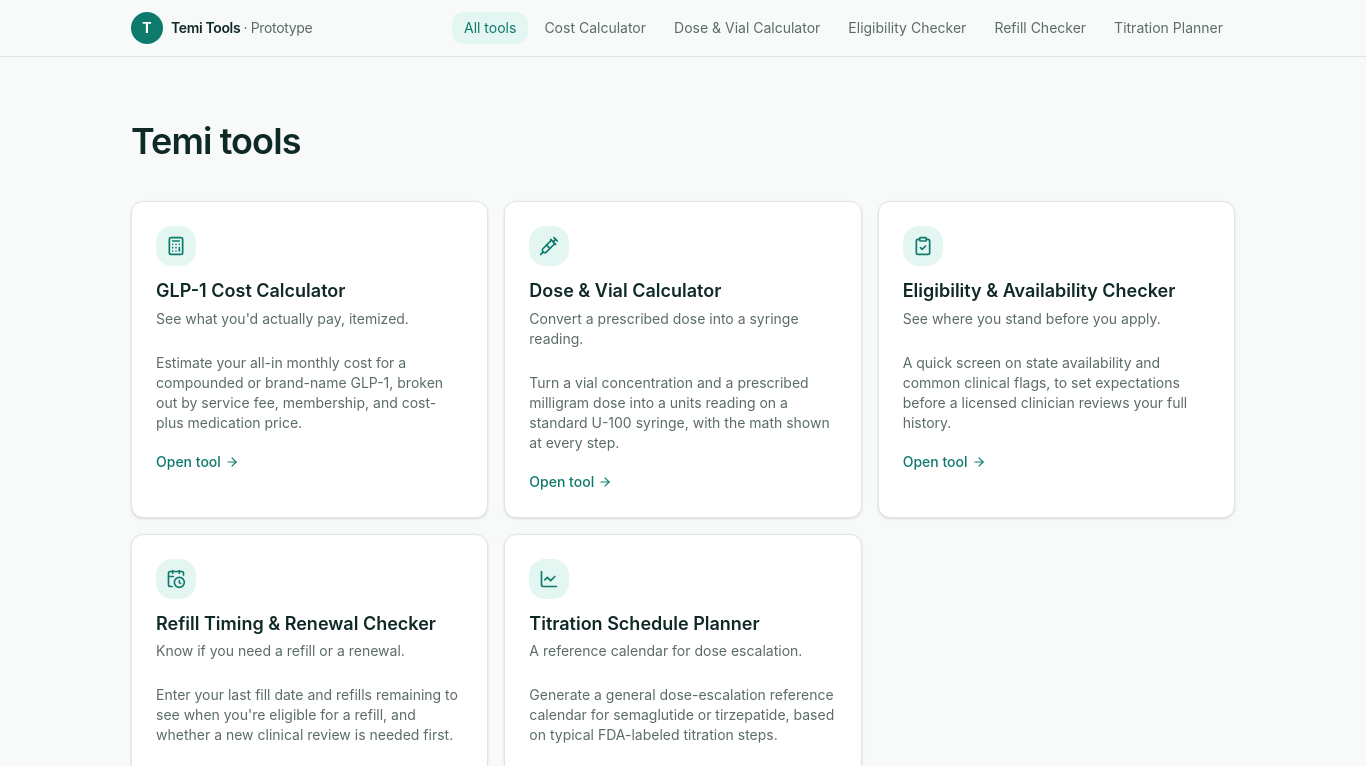
Scenario: Tool pages › navigates from the home page to a tool and back
Click the link "GLP-1 Cost Calculator" at {"x": 310, "y": 359}, box [131,201,488,518]
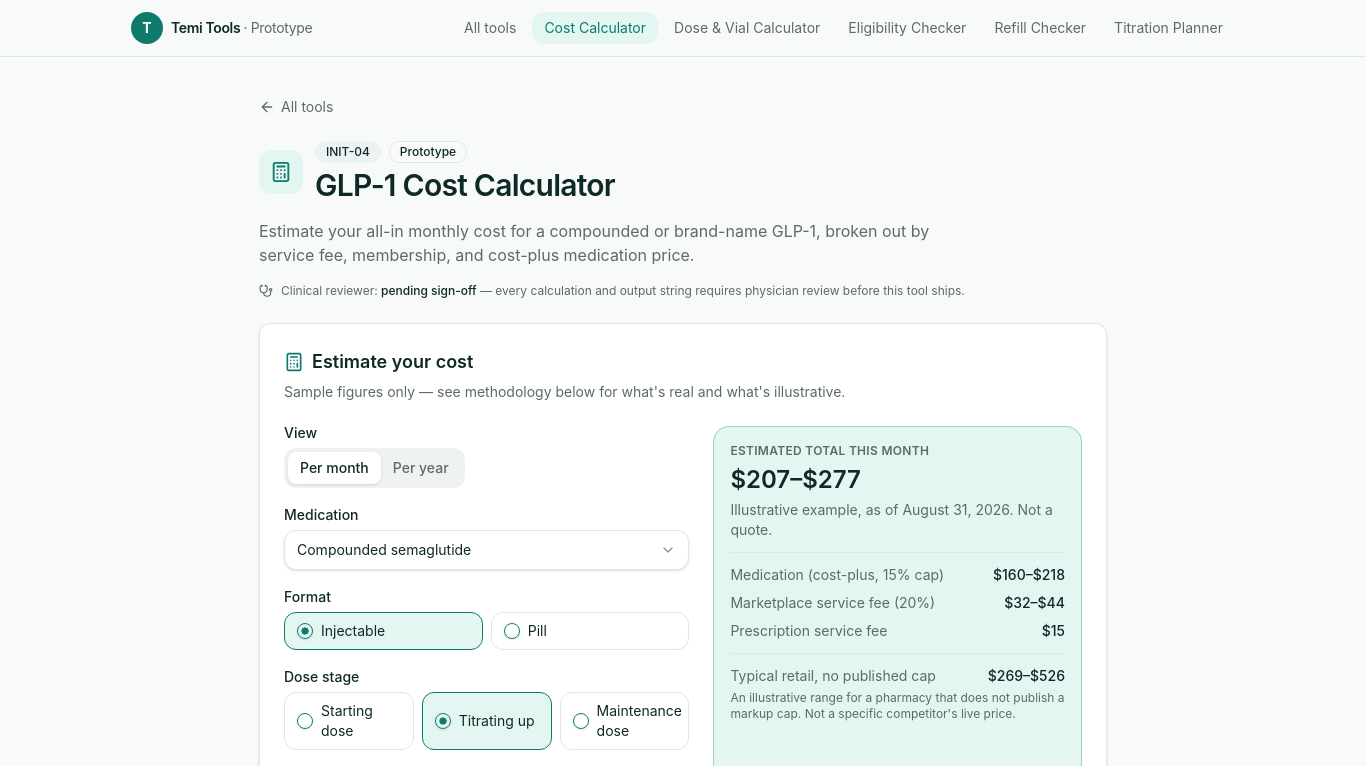
Expected: the heading "GLP-1 Cost Calculator" is shown, [315,167,615,203]
Both the header nav and the tool page's back-link are named "All tools".
Click the link "All tools" in the row of "Dose & Vial Calculator" at {"x": 490, "y": 28}, box [464,19,516,36]
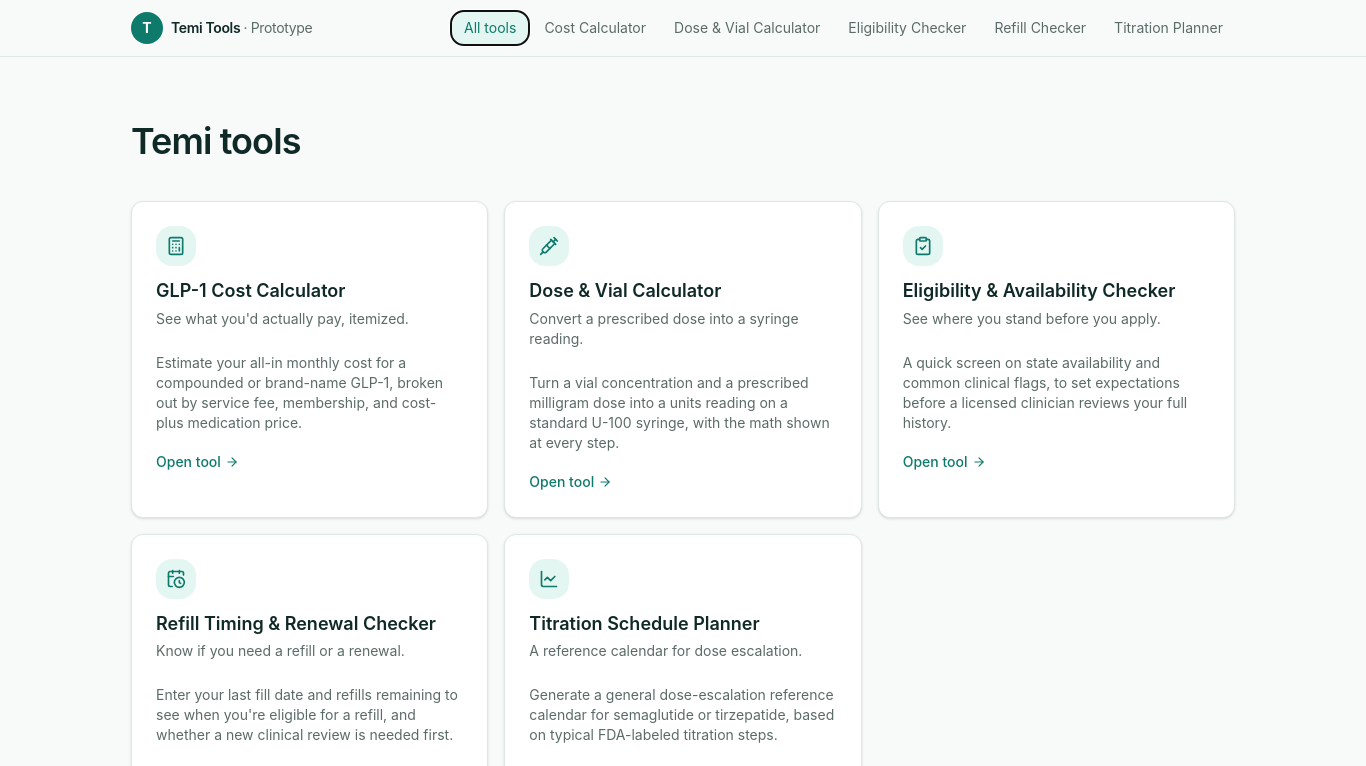
Expected: the heading "Temi tools" is shown, [131,119,300,163]
